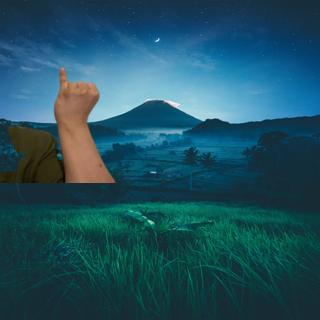FINE: (52, 63, 103, 130)
